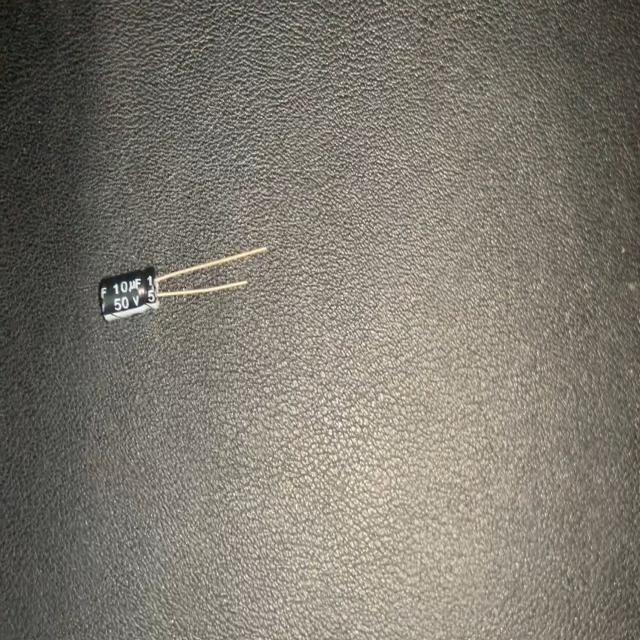capacitor: (98, 242, 270, 323)
